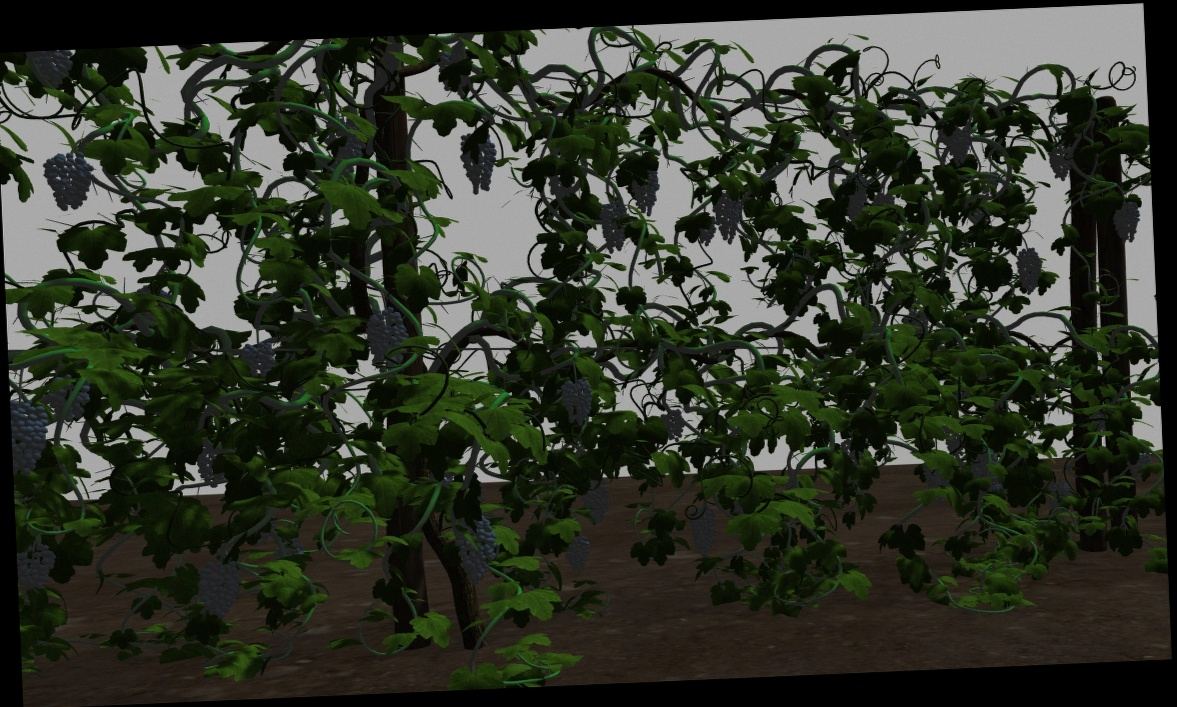grape: (43, 151, 93, 211), (196, 555, 242, 620), (456, 514, 497, 583), (12, 400, 48, 478), (365, 305, 406, 371), (459, 131, 496, 194), (47, 377, 91, 422), (25, 51, 74, 89), (17, 542, 55, 590), (629, 159, 661, 216), (712, 191, 742, 246), (688, 504, 718, 558), (560, 376, 592, 426), (599, 201, 628, 254), (968, 448, 1001, 493), (1013, 248, 1044, 292), (1111, 201, 1141, 245), (582, 480, 611, 525), (238, 341, 274, 377), (922, 460, 949, 505), (841, 174, 868, 216), (1047, 139, 1074, 181), (563, 536, 592, 575), (950, 127, 973, 167), (1126, 452, 1153, 483), (1046, 479, 1070, 513), (660, 410, 684, 442), (941, 423, 964, 456), (936, 119, 961, 147)
